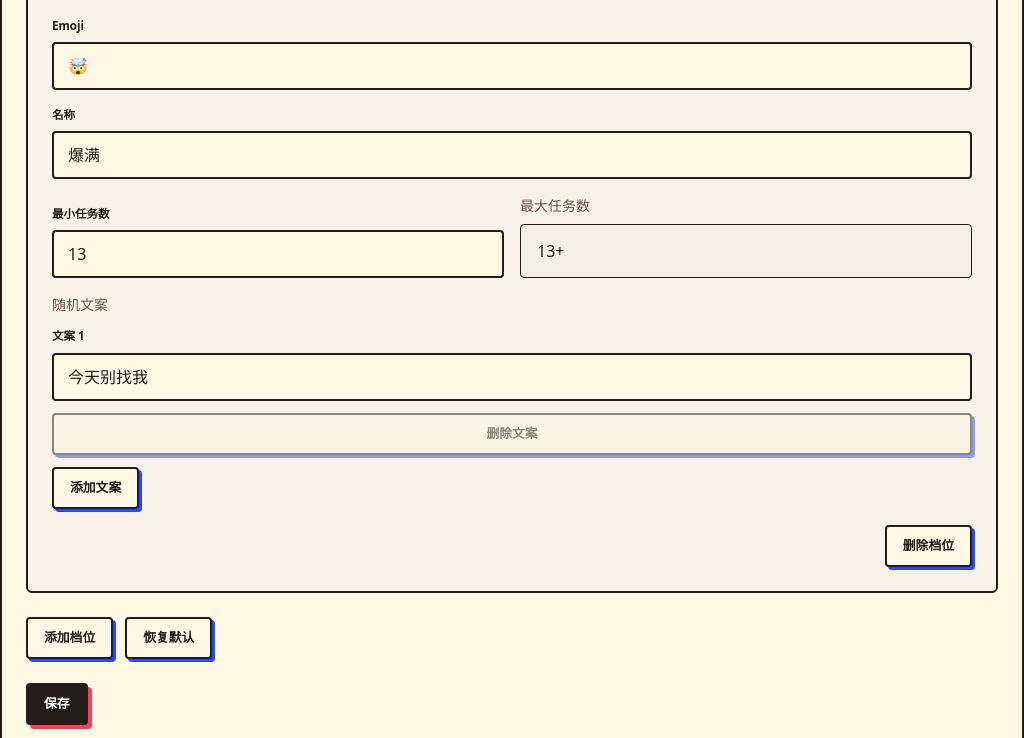
it: BusyRuleSection › restores defaults from reset button
(page scrolled)
Click the button "恢复默认" at (169, 638), box [125,616,212,658]
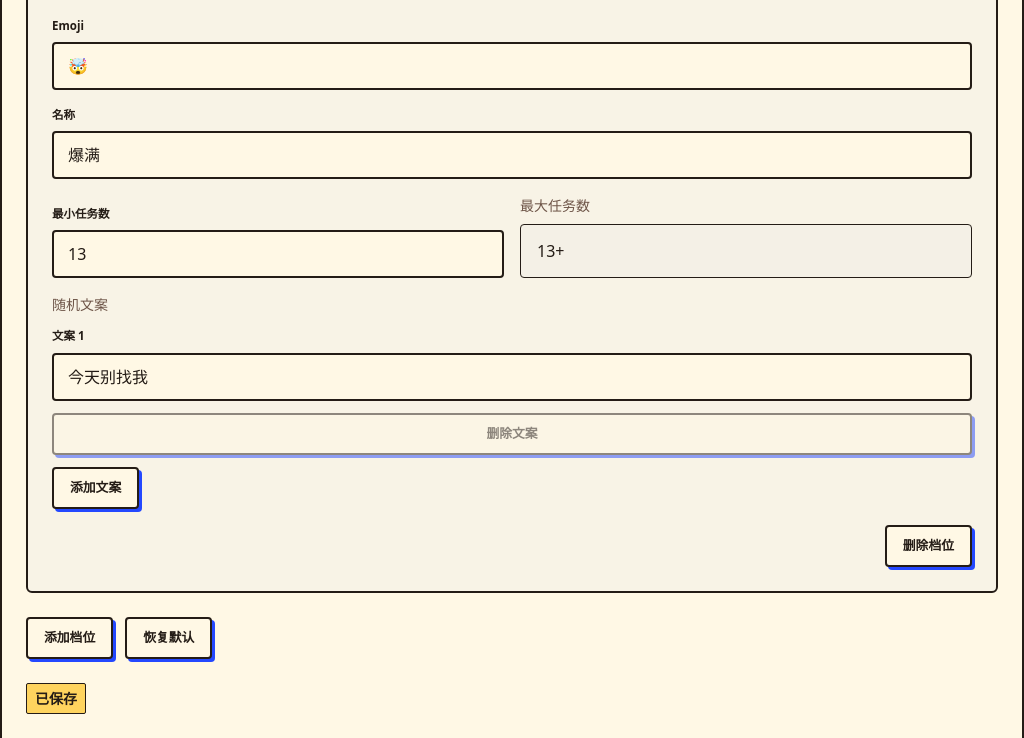
Now the text "已保存" is shown, box [26,682,86,714]
